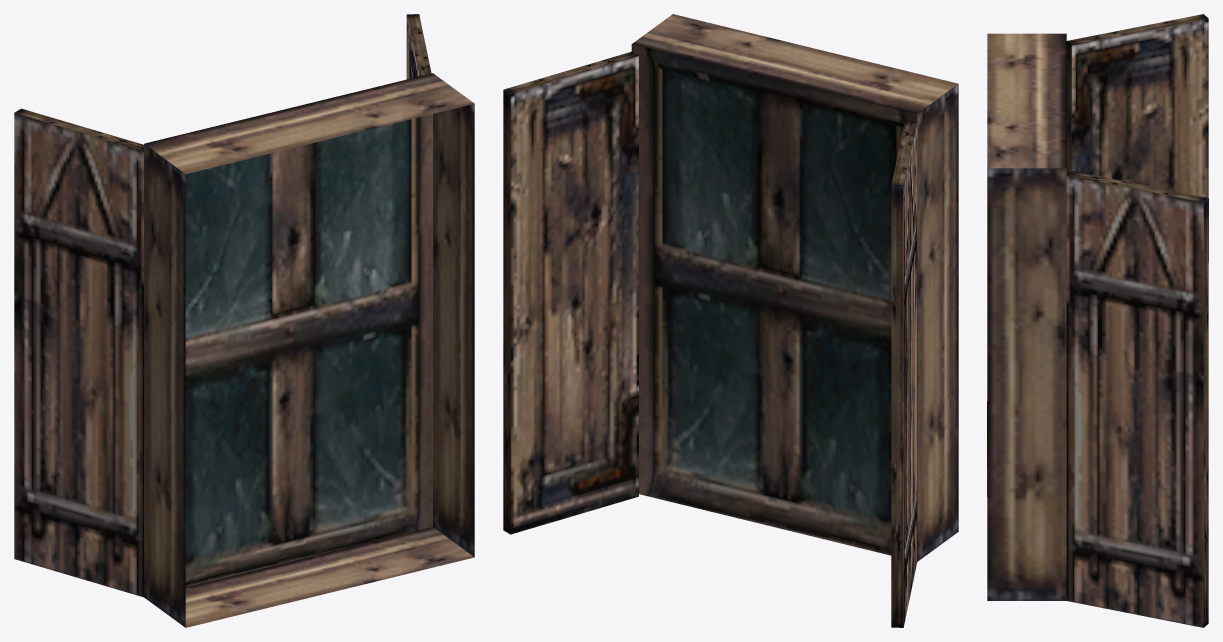
Rendered from loc2_23.glb.
3 renders of one model, left to right at view 1: azimuth 30°, elevation 25°; view 2: azimuth 150°, elevation 25°; view 3: azimuth 270°, elevation 25°, orthographic. The views are drawn at different scales.
Parts seen in each view (by area): view 1: loc2_23-col; view 2: loc2_23-col; view 3: loc2_23-col.
Part boxes in pixels (box(x1,y1,x2,y2)): loc2_23-col: box(14, 14, 474, 627); loc2_23-col: box(503, 14, 958, 627); loc2_23-col: box(987, 14, 1208, 627).
Size of the model in its own units: 1.71 by 1.83 by 0.8482.
Materials: 1 (1 with a texture image).
